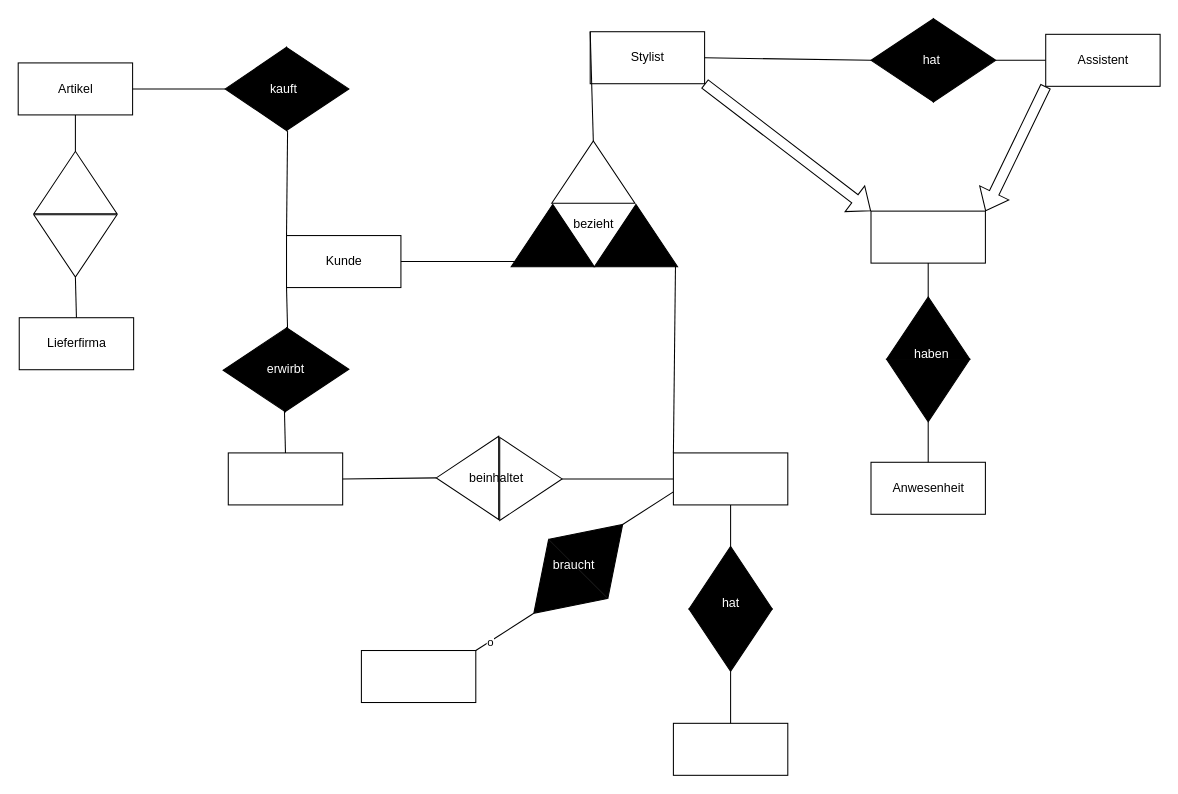
Image size: 1178x794. Some labels were removed from this diagram. Each missing label, with the centre of its shape:
"Abonnements" belongs at point (285, 478).
"Ausprägung" belongs at point (730, 748).
"Chemie" belongs at point (418, 676).
"Dienstleistung" belongs at point (730, 478).
"liefert" belongs at point (75, 245).
"Mitarbeiter" belongs at point (927, 236).
